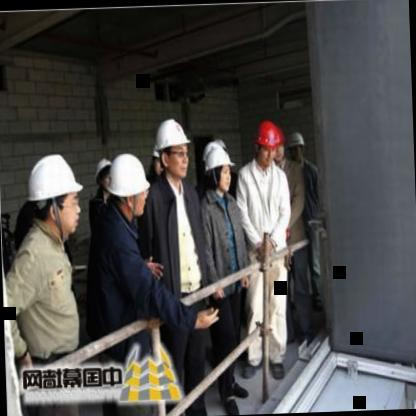helmet: (27, 146, 88, 244), (108, 150, 150, 222), (152, 115, 196, 182), (202, 142, 236, 196), (254, 119, 283, 170), (94, 153, 115, 195), (286, 128, 306, 166)
